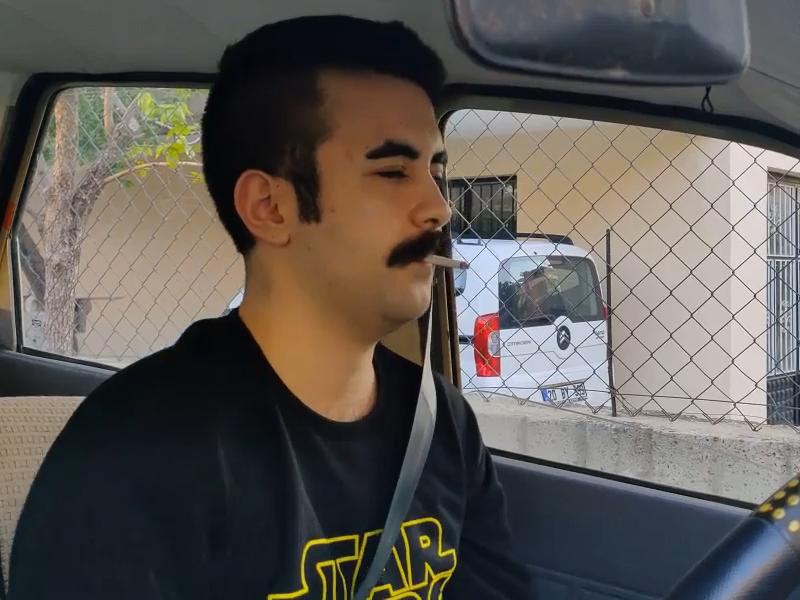sigara: (413, 250, 473, 272)
